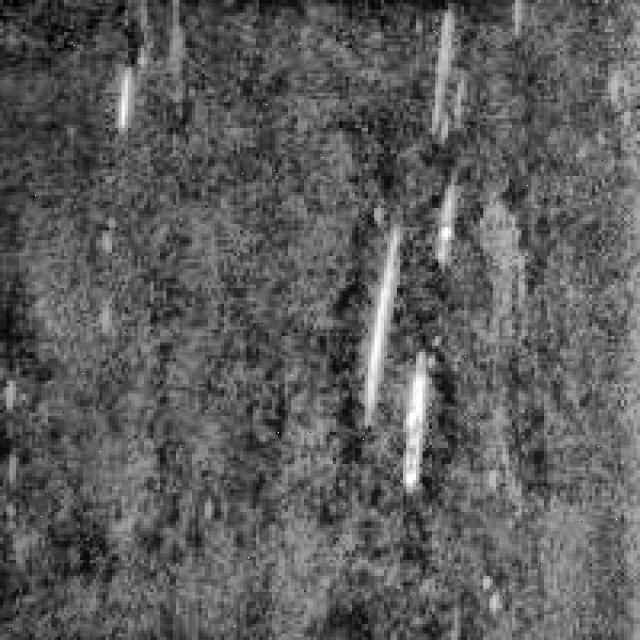Inclusion: (352, 183, 451, 487), (99, 44, 147, 134)
